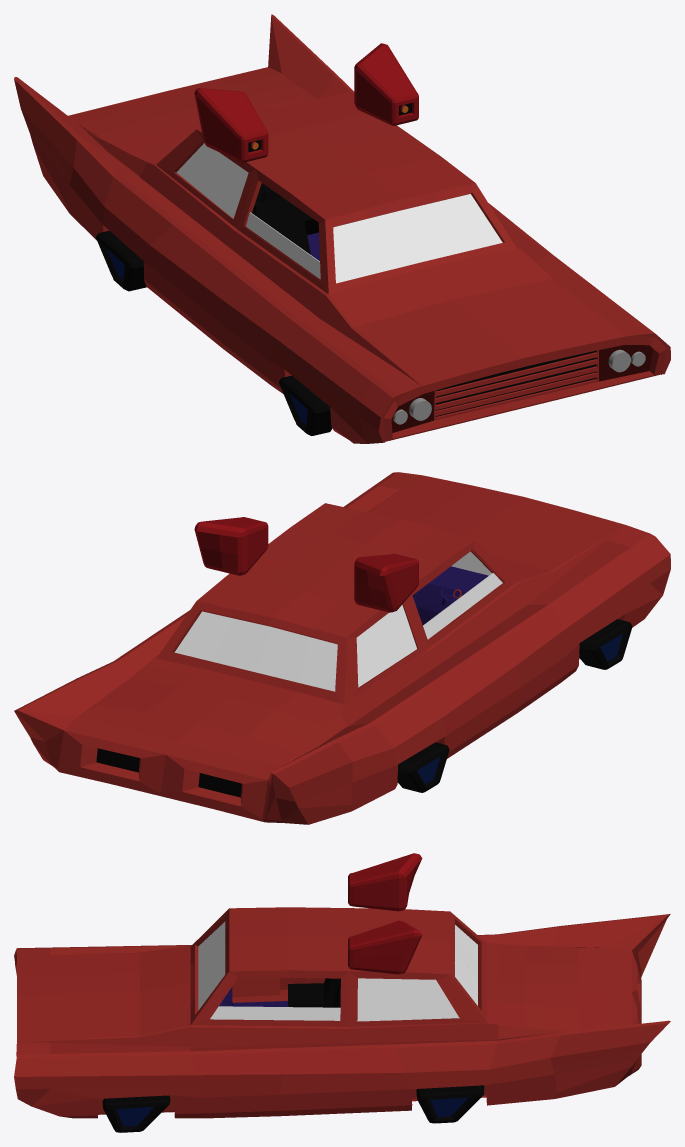
The picture shows the model from 3 angles, top to bottom: view 1: azimuth 30°, elevation 25°; view 2: azimuth 150°, elevation 25°; view 3: azimuth 270°, elevation 25°; orthographic projection. The views are drawn at different scales.
Visible parts, largest first — view 1: Body.001, Guns; view 2: Body.001, Guns; view 3: Body.001, Guns.
Part boxes in pixels (<box>): Body.001: <box>14,14,670,443</box>; Guns: <box>194,43,418,162</box>; Body.001: <box>14,472,670,824</box>; Guns: <box>194,517,418,612</box>; Body.001: <box>14,907,670,1132</box>; Guns: <box>348,853,422,974</box>.
Bounding box in the file's own units: 357 × 218 × 734.
